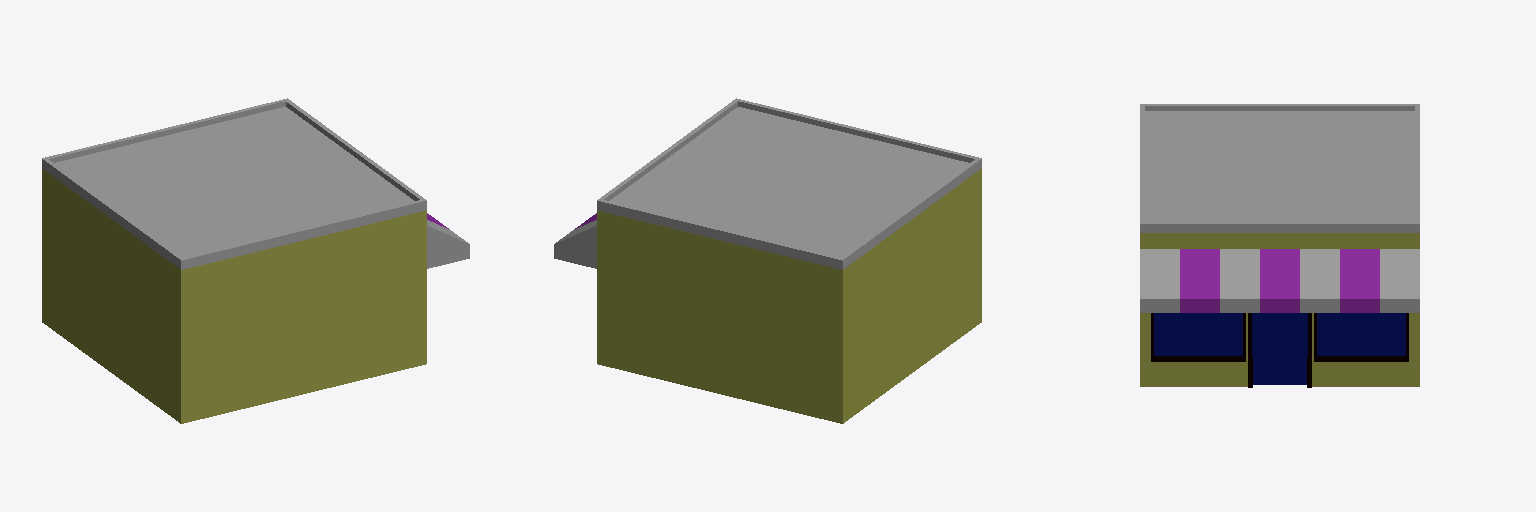
The model's file is crtshsp2.obj.
The picture shows the model from 3 angles: view 1: azimuth 30°, elevation 25°; view 2: azimuth 150°, elevation 25°; view 3: azimuth 270°, elevation 25°; orthographic projection.
Visible parts, largest first — view 1: Cube.042_Cube.068, Cube.043_Cube.069, Cube.039_Cube.065; view 2: Cube.042_Cube.068, Cube.043_Cube.069, Cube.039_Cube.065; view 3: Cube.043_Cube.069, Cube.042_Cube.068, Cube.039_Cube.065, Cube.040_Cube.066.
Boxes of the visible parts, box(x1,y1,x2,y2) form: Cube.042_Cube.068: box(42, 169, 426, 423); Cube.043_Cube.069: box(42, 98, 426, 269); Cube.039_Cube.065: box(427, 213, 469, 268); Cube.042_Cube.068: box(597, 169, 981, 423); Cube.043_Cube.069: box(597, 98, 981, 269); Cube.039_Cube.065: box(554, 213, 596, 268); Cube.043_Cube.069: box(1140, 104, 1419, 232); Cube.042_Cube.068: box(1140, 233, 1419, 386); Cube.039_Cube.065: box(1140, 249, 1419, 312); Cube.040_Cube.066: box(1151, 313, 1408, 387).
Size of the model in its own units: 4.59 by 2.48 by 3.84.